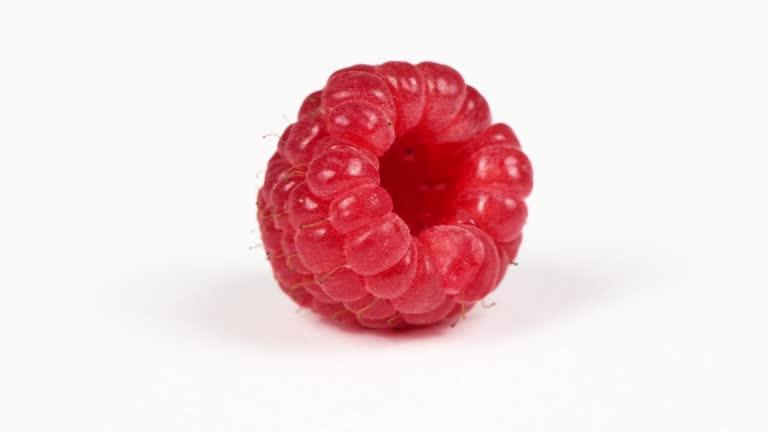peas: (255, 59, 533, 331)
